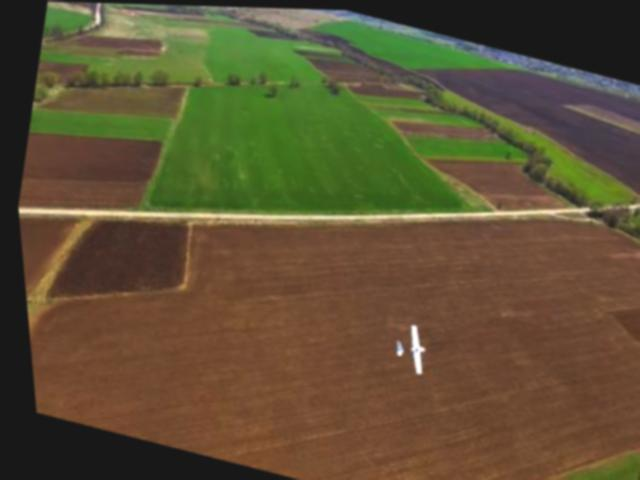uav: (373, 310, 436, 379)
